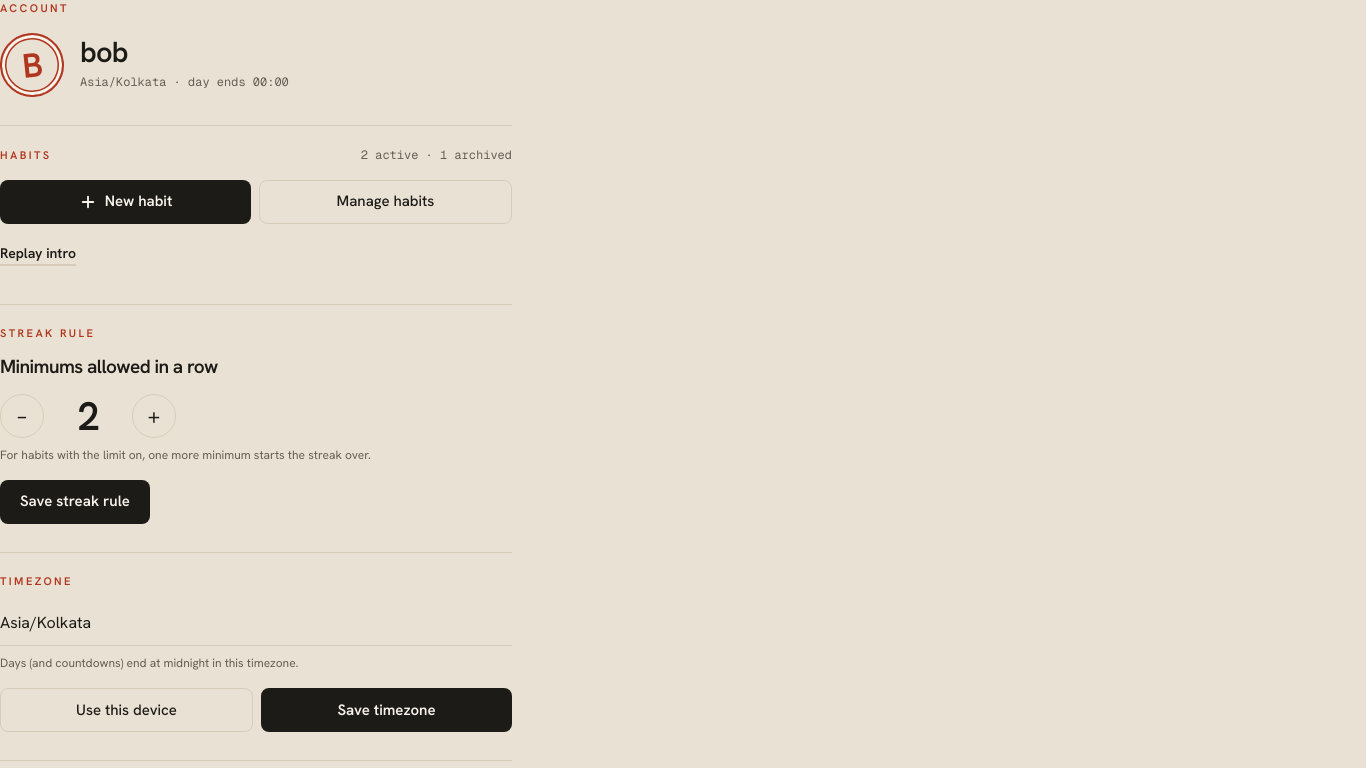
Test: AccountPage › Habits › opens the New habit sheet and links to Manage habits
The image size is (1366, 768).
Step 1. Click the button "New habit" → click(126, 202), box [0,180,251,224]
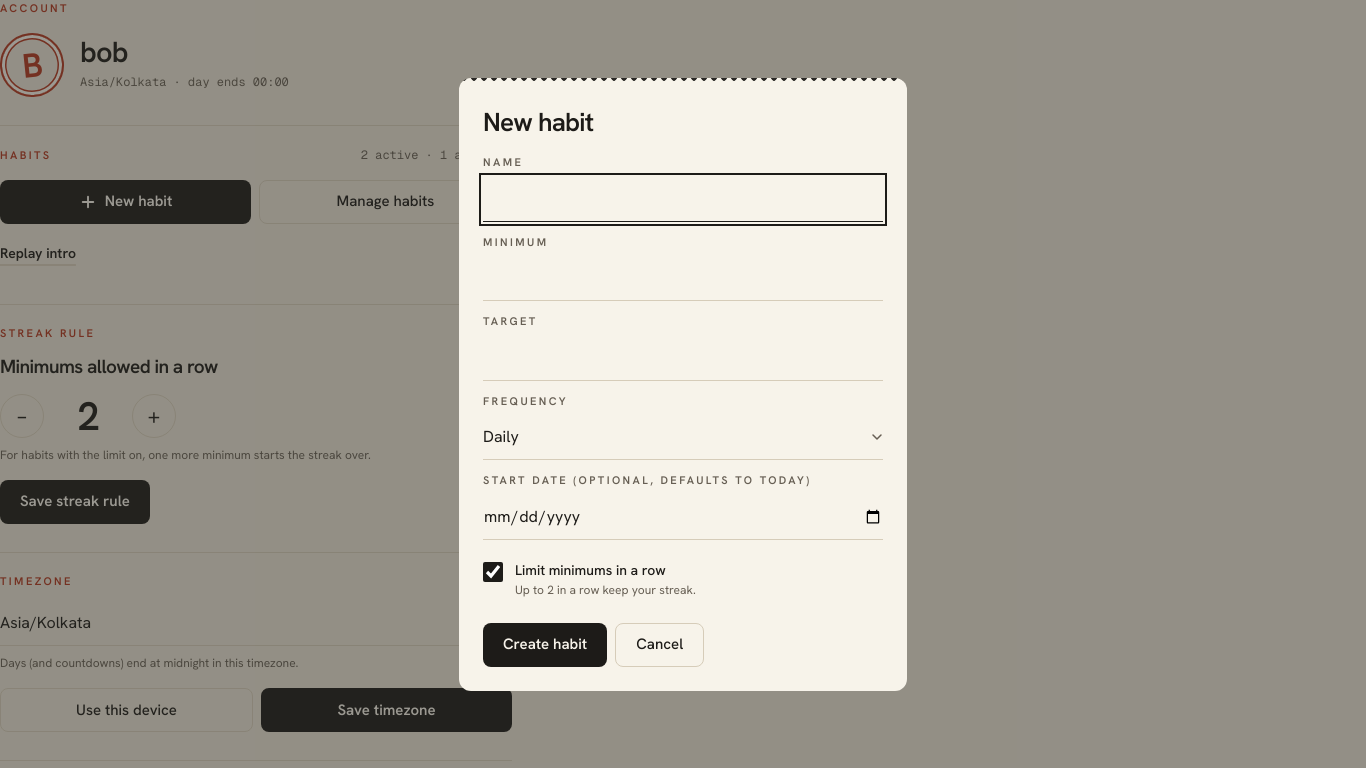
Check: the dialog "New habit" is shown, box [459,78,907,690]
